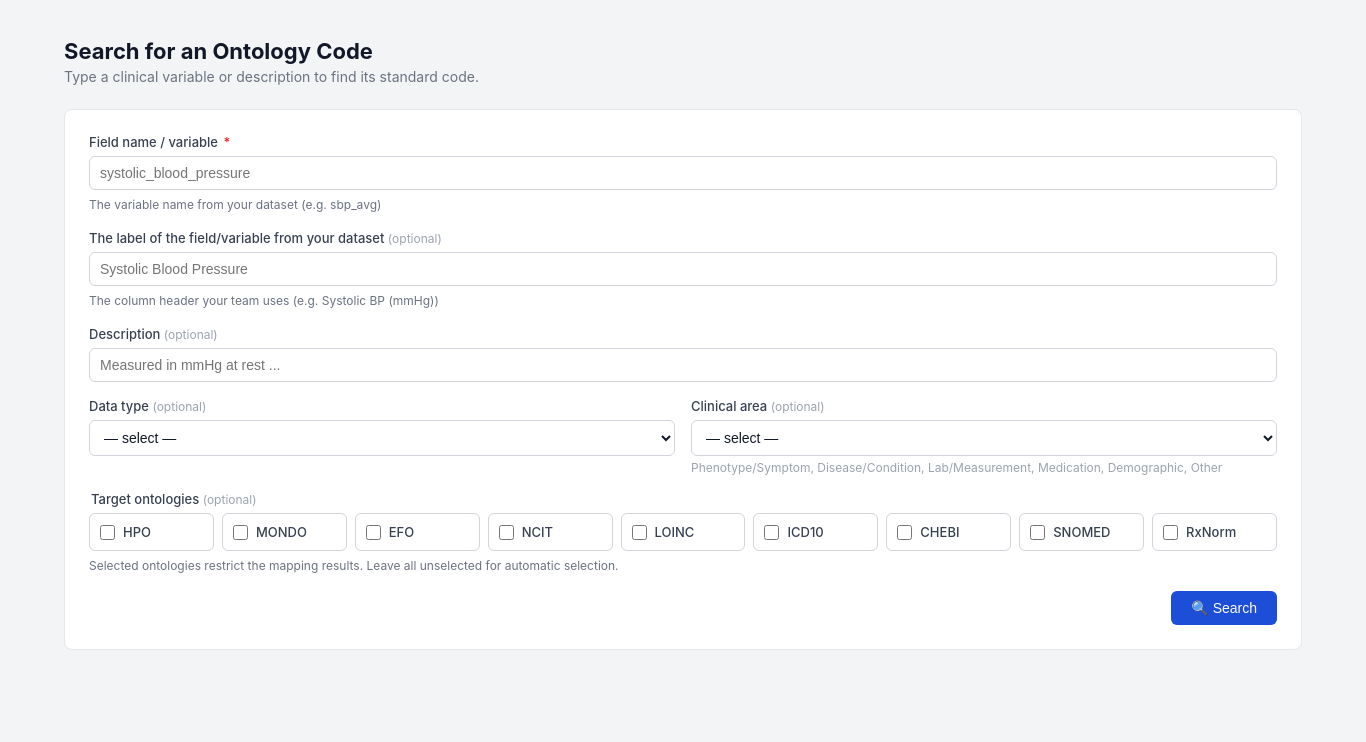
SearchPage retrieval method display › renders disabled as Disabled (ungrounded)
Type "sbp" into the field labelled "Field name / variable *" at x=683, y=173, box [89, 156, 1277, 190]
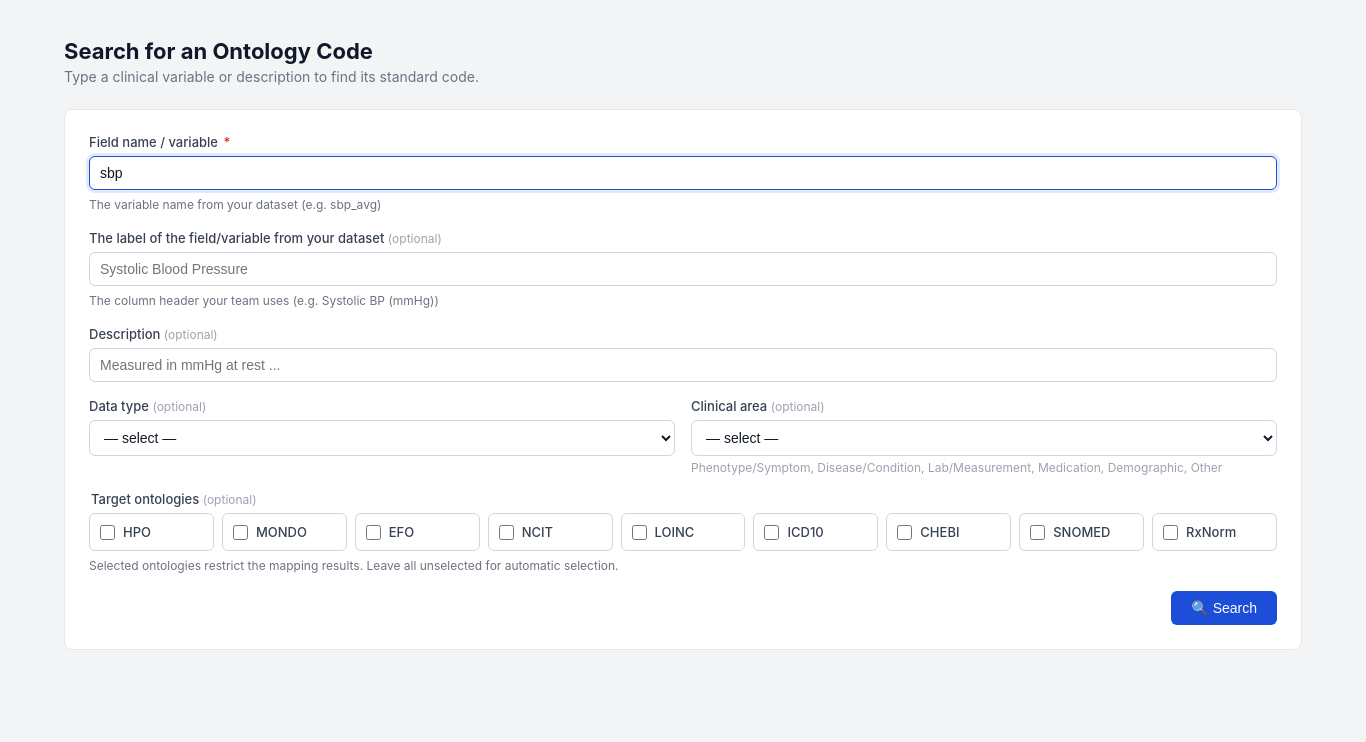
Click the button "🔍 Search" at x=1224, y=608, box [1171, 591, 1277, 625]
(page scrolled)
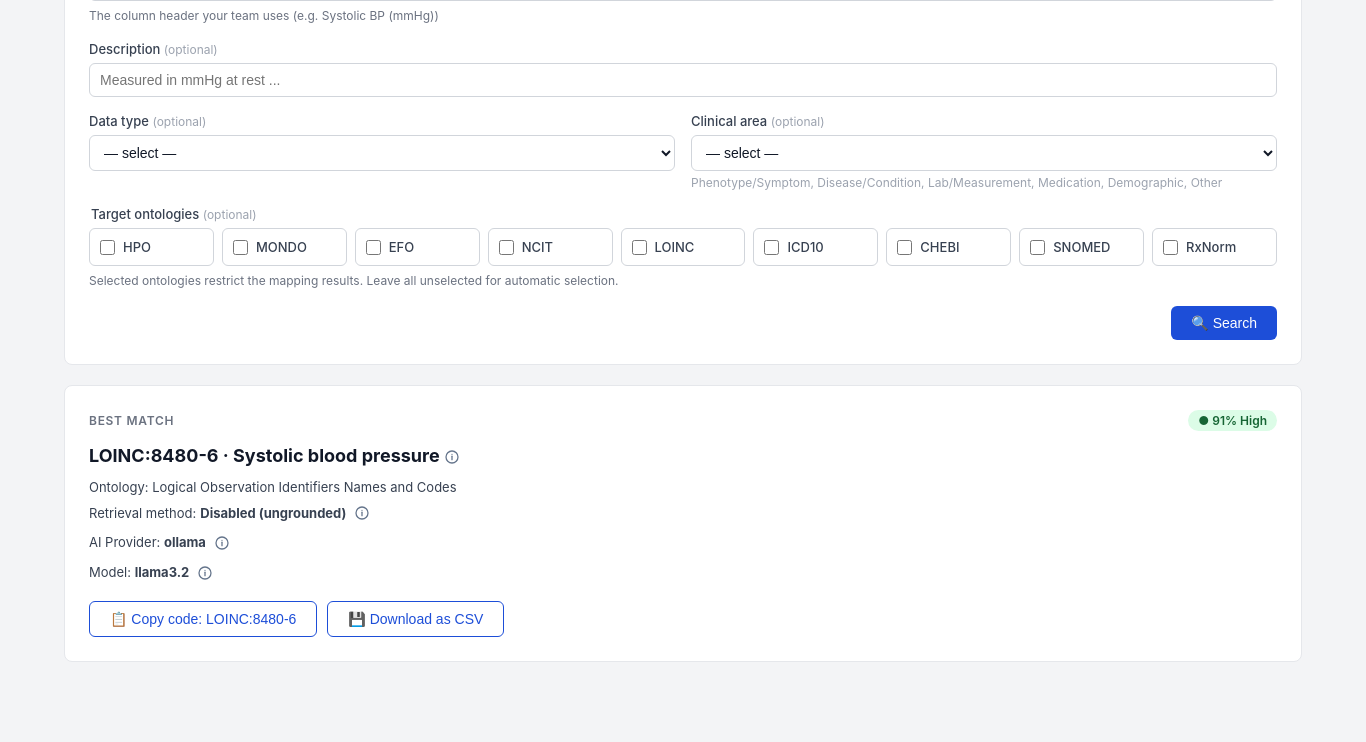
Now the text "Disabled (ungrounded)" is shown, box [200, 505, 346, 521]
Now the text "Retrieval method: Disabled (ungrounded)" is shown, box [89, 501, 374, 525]
